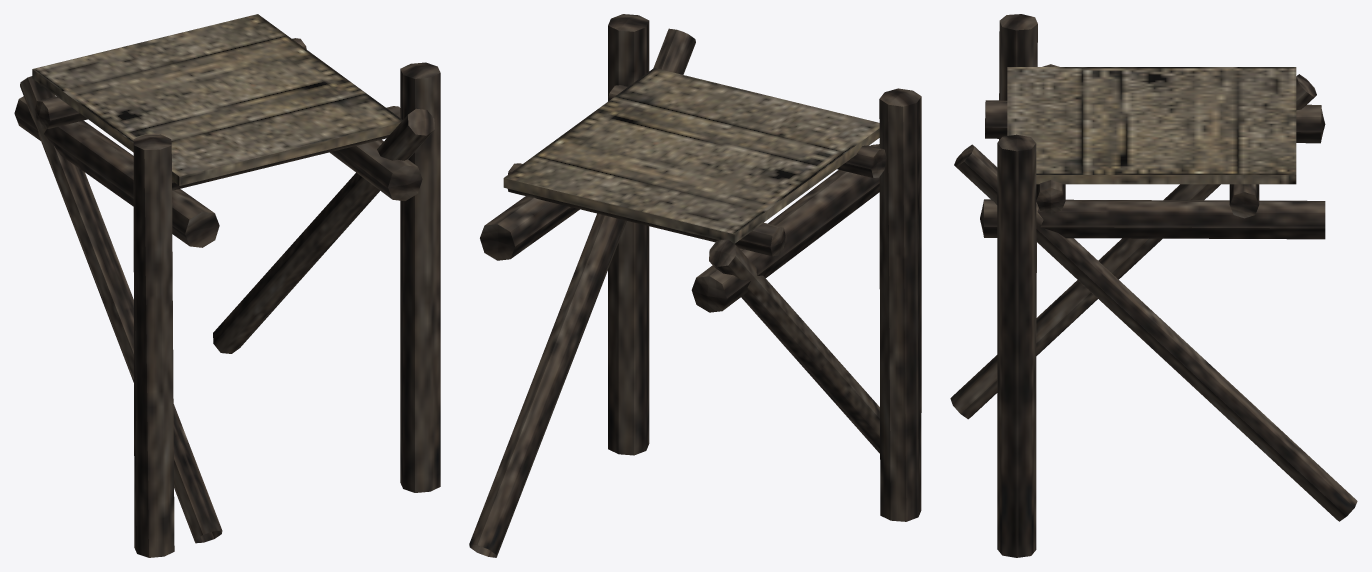
Rendered from Pier02.obj.
3 renders of one model, left to right at view 1: azimuth 30°, elevation 25°; view 2: azimuth 150°, elevation 25°; view 3: azimuth 270°, elevation 25°, orthographic. The views are drawn at different scales.
Parts seen in each view (by area): view 1: Pier02; view 2: Pier02; view 3: Pier02.
Part boxes in pixels (x1,y1,x2,y2): Pier02: [14, 14, 440, 557]; Pier02: [469, 14, 921, 557]; Pier02: [950, 14, 1357, 557].
Bounding box in the file's own units: 4.73 × 6.27 × 5.64.
